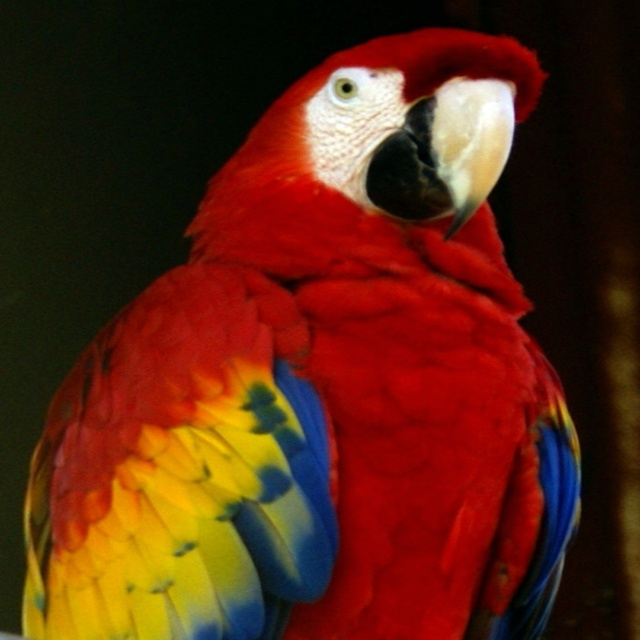Parrot: (12, 26, 579, 639)
